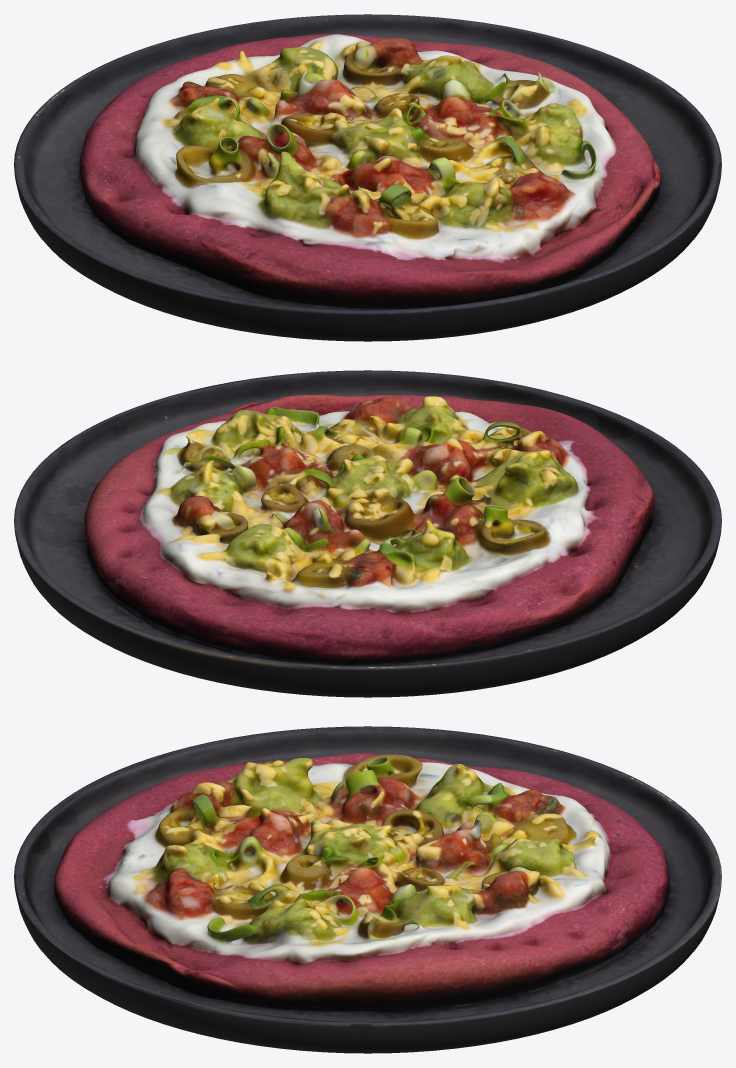
The model's file is Flex Mex.FBX.
3 renders of one model, top to bottom at view 1: azimuth 30°, elevation 25°; view 2: azimuth 150°, elevation 25°; view 3: azimuth 270°, elevation 25°, orthographic.
Parts seen in each view (by area): view 1: Dish10_Flex Mex; view 2: Dish10_Flex Mex; view 3: Dish10_Flex Mex.
Part boxes in pixels (box(x1,y1,x2,y2)): Dish10_Flex Mex: box(14, 14, 721, 341); Dish10_Flex Mex: box(14, 370, 721, 697); Dish10_Flex Mex: box(14, 726, 721, 1053).
Size of the model in its own units: 25.36 by 4.12 by 25.36.
1 material, 1 textured.
